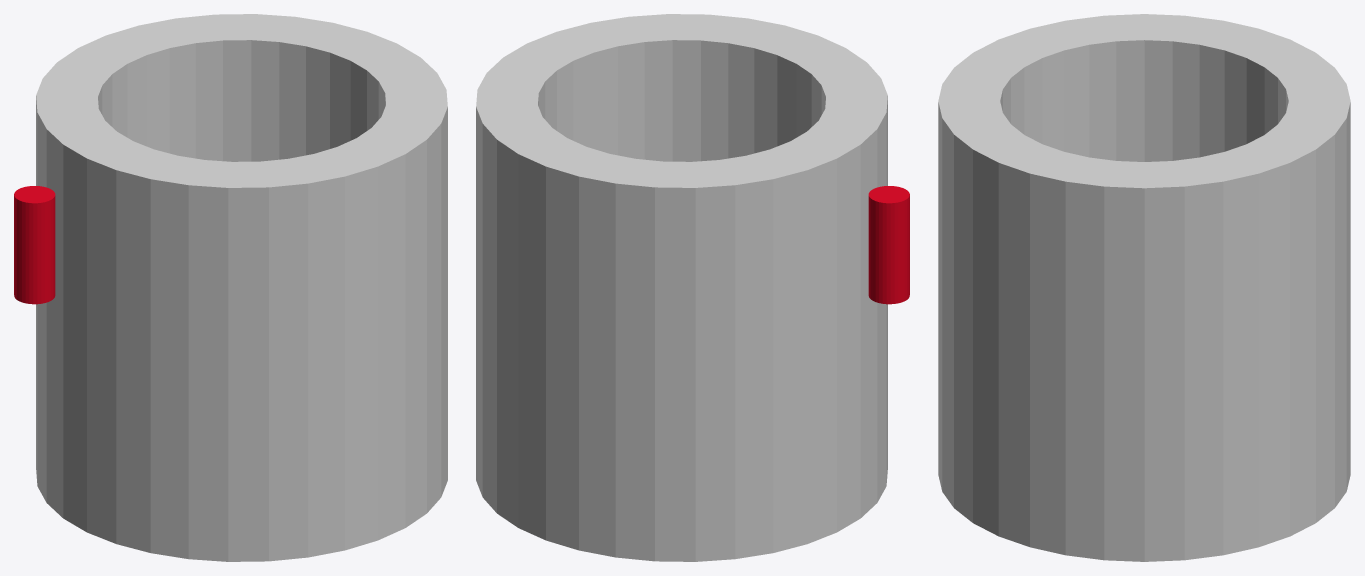
File: aircanon_with_gunfire.glb
3 renders of one model, left to right at view 1: azimuth 30°, elevation 25°; view 2: azimuth 150°, elevation 25°; view 3: azimuth 270°, elevation 25°, orthographic.
Parts seen in each view (by area): view 1: Cylinder.001, Cylinder; view 2: Cylinder.001, Cylinder; view 3: Cylinder.001.
Part boxes in pixels (x1,y1,x2,y2): Cylinder.001: [36, 14, 447, 561]; Cylinder: [14, 186, 55, 304]; Cylinder.001: [476, 14, 887, 561]; Cylinder: [868, 186, 909, 304]; Cylinder.001: [938, 14, 1350, 561].
Size of what is drawn, in the model's own units: 2.26 by 2 by 2.
